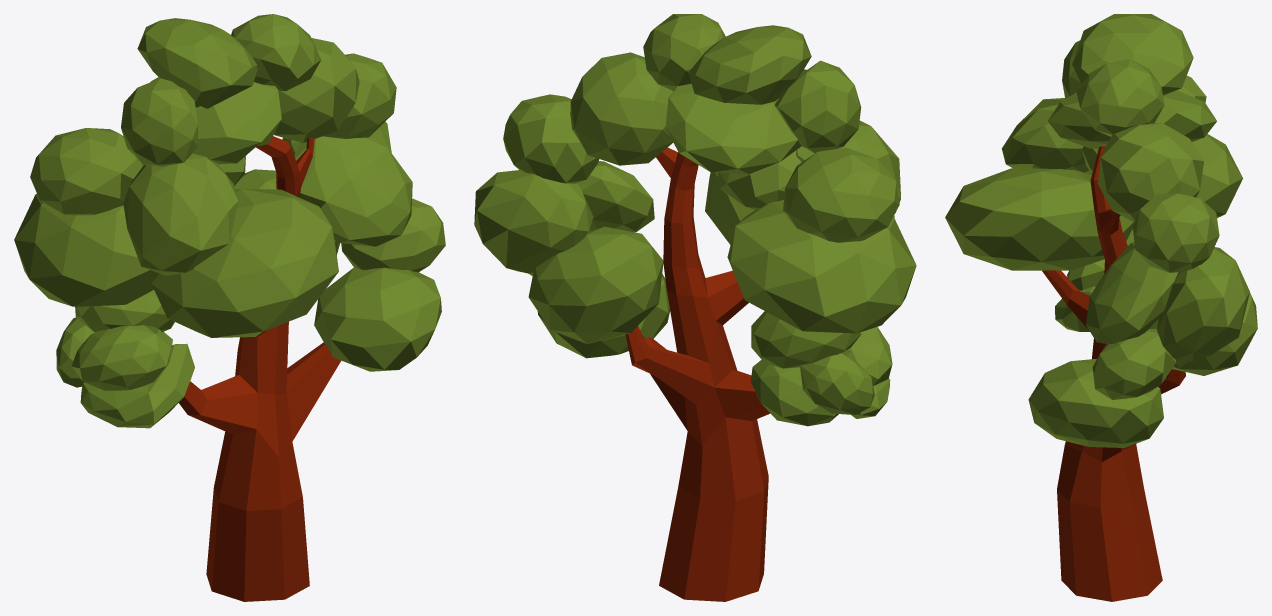
Rendered from Oak_VC.fbx.
3 renders of one model, left to right at view 1: azimuth 30°, elevation 25°; view 2: azimuth 150°, elevation 25°; view 3: azimuth 270°, elevation 25°, orthographic. The views are drawn at different scales.
Parts seen in each view (by area): view 1: Oak_Folhas_Verde_Claro; view 2: Oak_Folhas_Verde_Claro; view 3: Oak_Folhas_Verde_Claro.
Boxes of the visible parts, bbox=[...] form: Oak_Folhas_Verde_Claro: bbox=[14, 14, 445, 601]; Oak_Folhas_Verde_Claro: bbox=[474, 14, 916, 601]; Oak_Folhas_Verde_Claro: bbox=[945, 14, 1257, 601].
Size of the model in its own units: 396 by 531 by 284.
